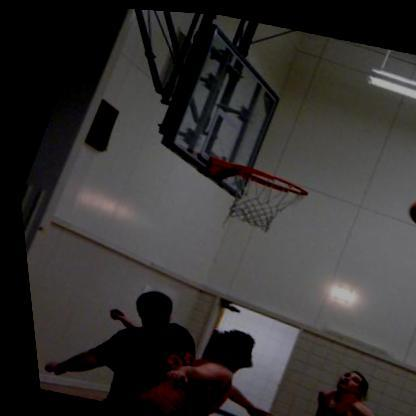basketball: (402, 189, 416, 228)
